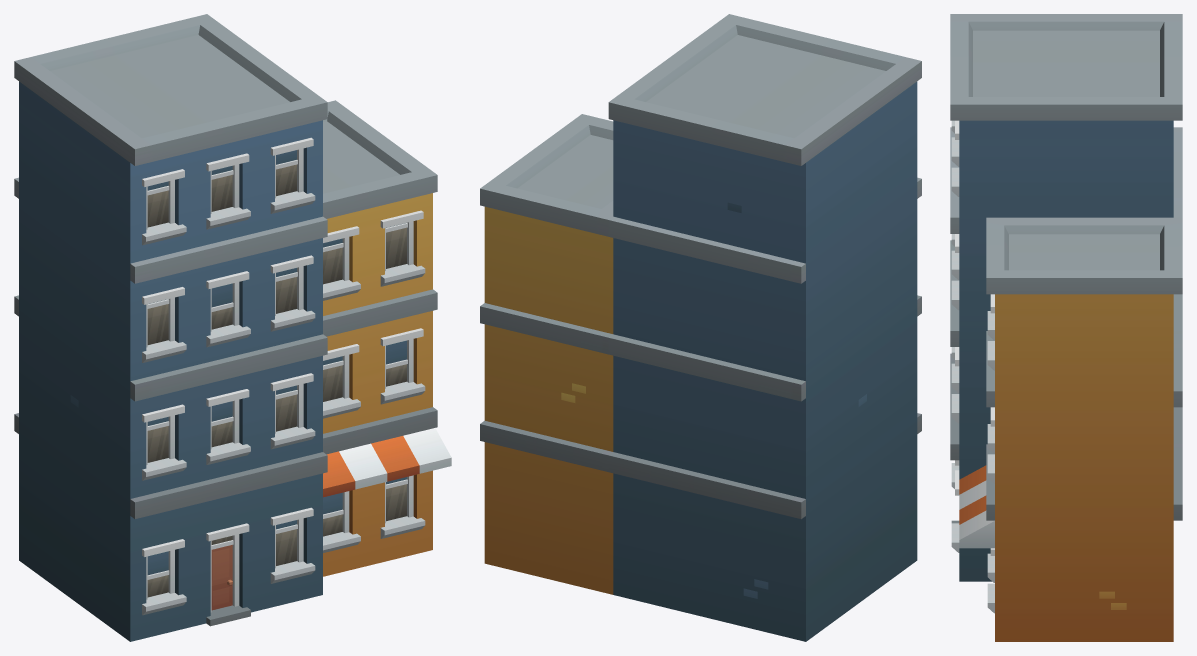
The model's file is city-h.glb.
3 views of the same model, side by side, from view 1: azimuth 30°, elevation 25°; view 2: azimuth 150°, elevation 25°; view 3: azimuth 270°, elevation 25° (orthographic). The views are drawn at different scales.
Parts seen in each view (by area): view 1: building_H_withoutBase; view 2: building_H_withoutBase; view 3: building_H_withoutBase.
Boxes of the visible parts, bbox=[...] form: building_H_withoutBase: bbox=[14, 14, 451, 641]; building_H_withoutBase: bbox=[480, 14, 921, 641]; building_H_withoutBase: bbox=[950, 14, 1182, 641].
Size of the model in its own units: 2.01 by 2.95 by 1.3.
1 material, 1 textured.
